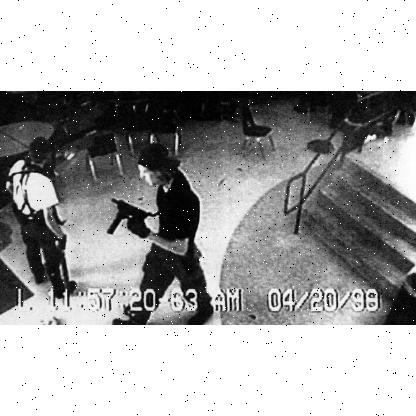gun: (103, 195, 151, 240)
